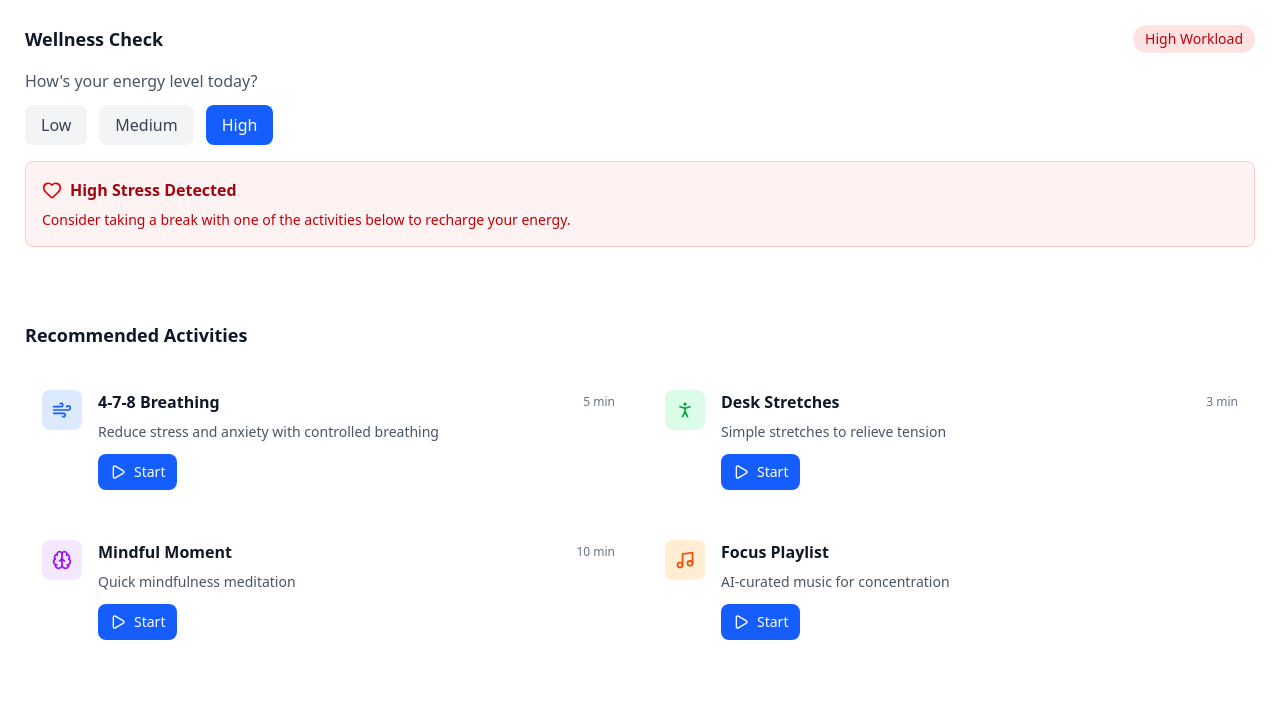
Test: WellnessCoach › starts and stops a wellness activity
What coordinates should you click on to do the following:
click the button "Start" below "Simple stretches to relieve tension"
I would click on:
 (761, 472)
Its box is x1=721 y1=454 x2=800 y2=490.
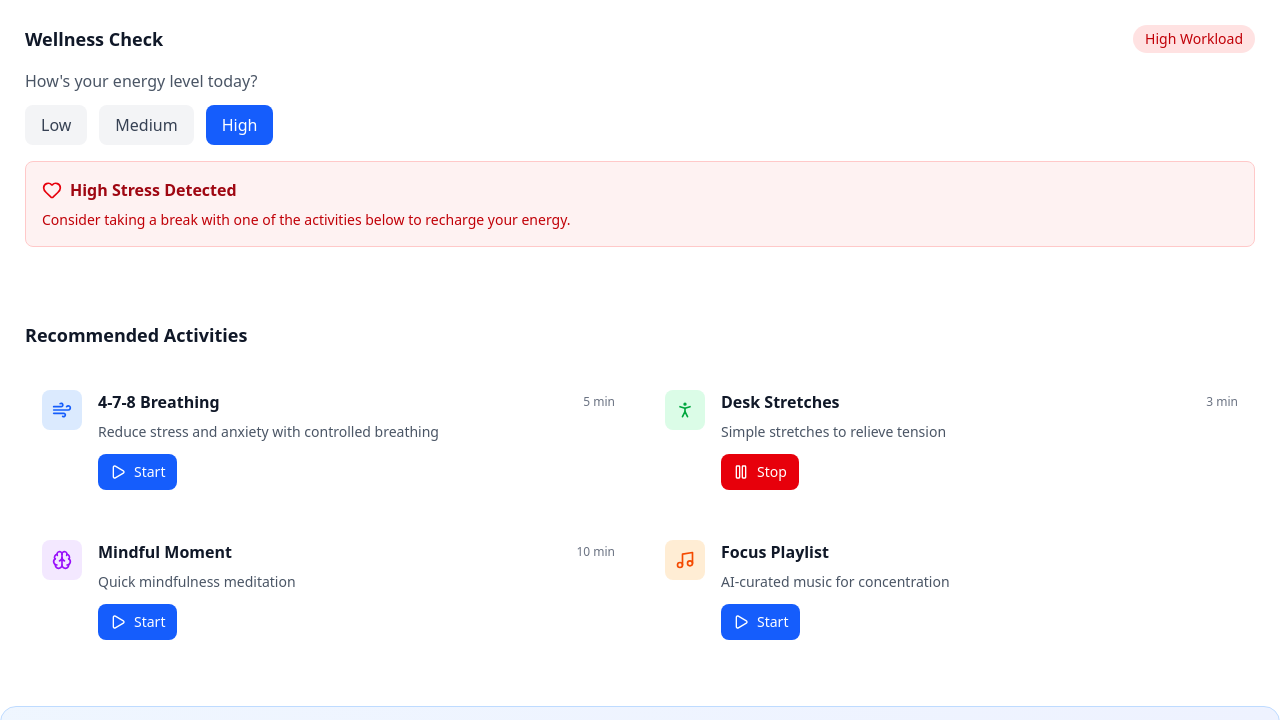
Result: the button "Stop" is shown at x1=721 y1=454 x2=799 y2=490
